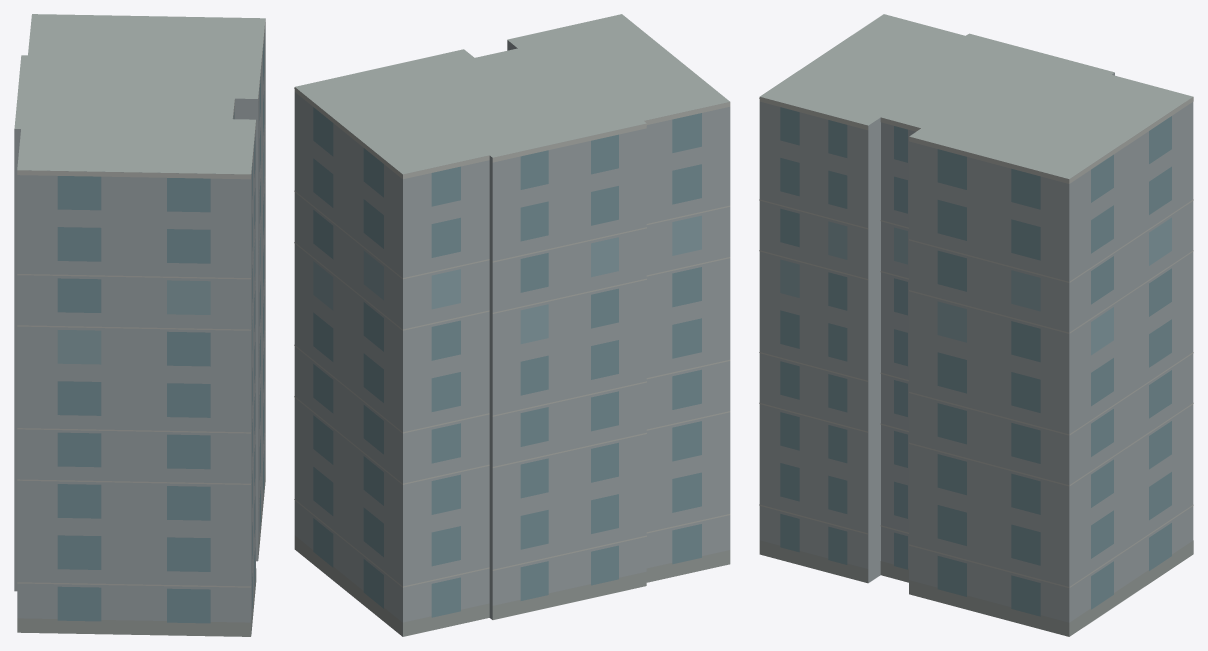
Rendered from survey-upis-32746016.glb.
3 views of the same model, side by side, from view 1: azimuth 30°, elevation 25°; view 2: azimuth 150°, elevation 25°; view 3: azimuth 270°, elevation 25° (orthographic).
Visible parts, largest first — view 1: survey-upis-32746016.tmp; view 2: survey-upis-32746016.tmp; view 3: survey-upis-32746016.tmp.
Part boxes in pixels (box(x1,y1,x2,y2)): survey-upis-32746016.tmp: box(14, 14, 265, 636); survey-upis-32746016.tmp: box(294, 14, 730, 636); survey-upis-32746016.tmp: box(759, 14, 1193, 636).
Size of the model in its own units: 17.82 by 23 by 19.78.
